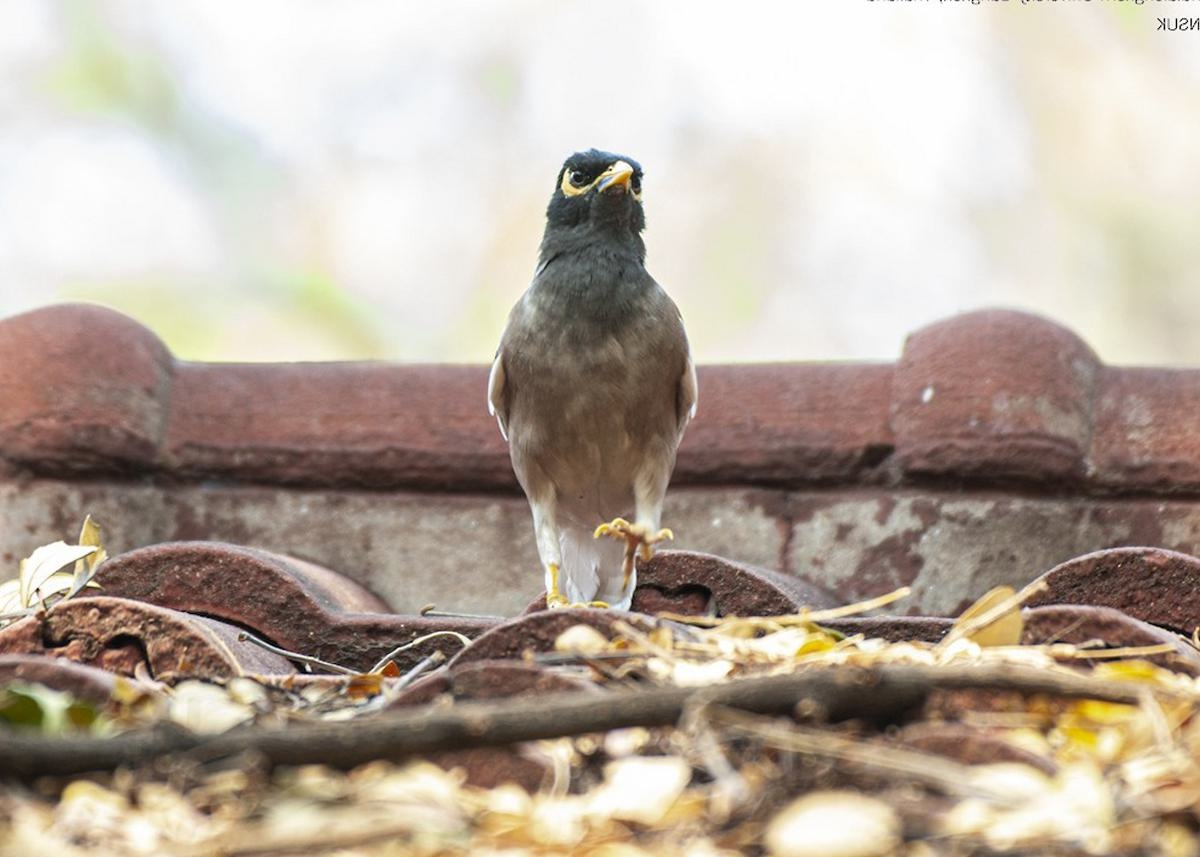myna: (516, 151, 707, 600)
